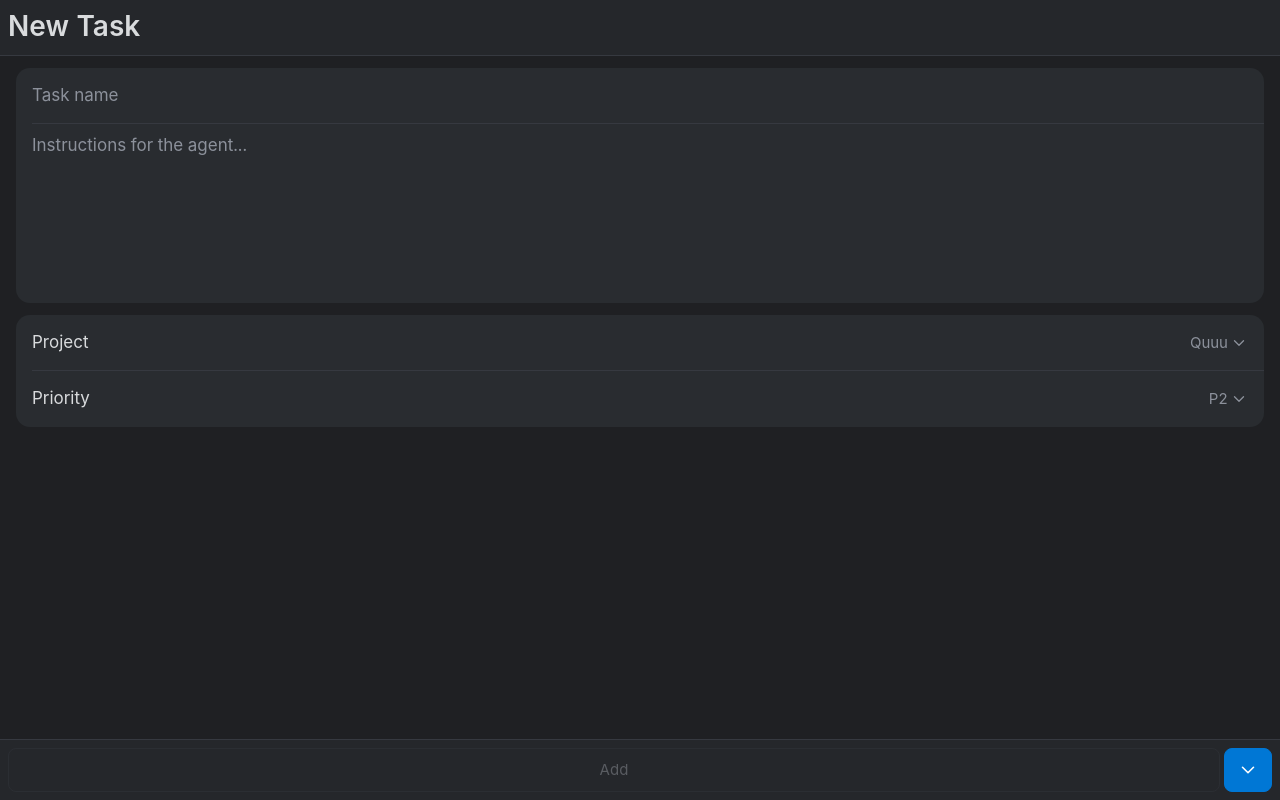
Test: the new task surface › raises the choosing surface on press, and the row then states what was chosen
This screenshot has width=1280, height=800.
Click the text "Project". click: x=60, y=343
box: [32, 329, 88, 356]
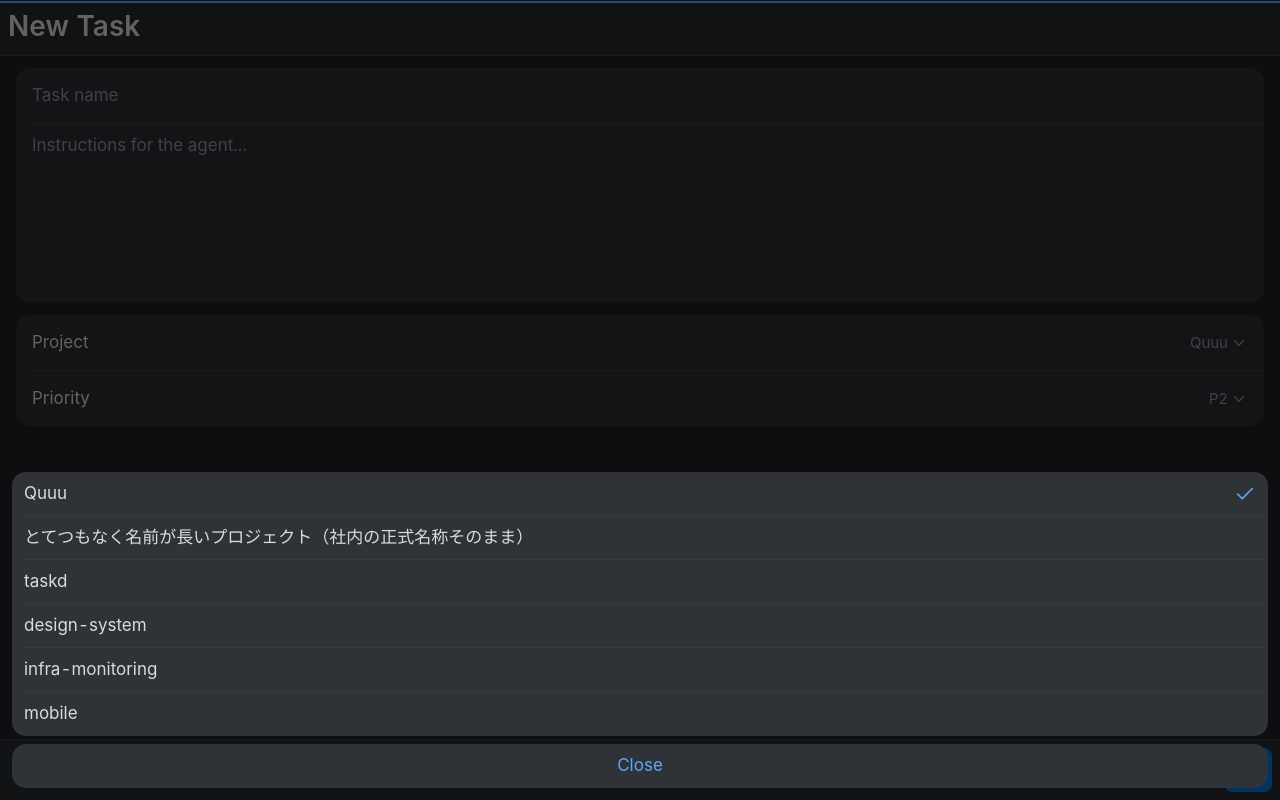
Now the text "とてつもなく名前が長いプロジェクト（社内の正式名称そのまま）" is shown, box [24, 527, 533, 547]
Now the text "taskd" is shown, box [24, 571, 68, 591]
Now the text "design-system" is shown, box [24, 615, 147, 635]
Click the button "infra-monitoring". click: x=91, y=669
box: [12, 648, 1268, 692]
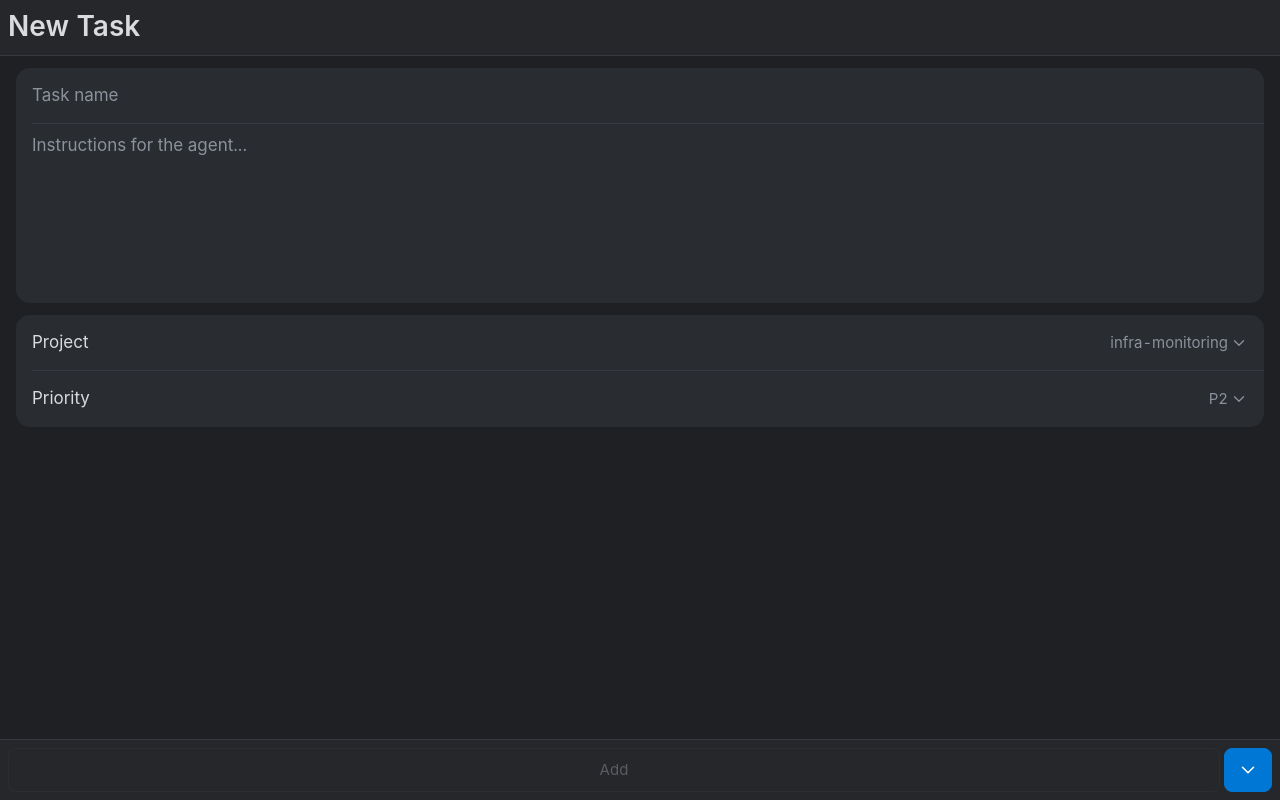
Expected: the text "infra-monitoring" is shown once, [1110, 331, 1228, 355]
Now the button "mobile" is gone
